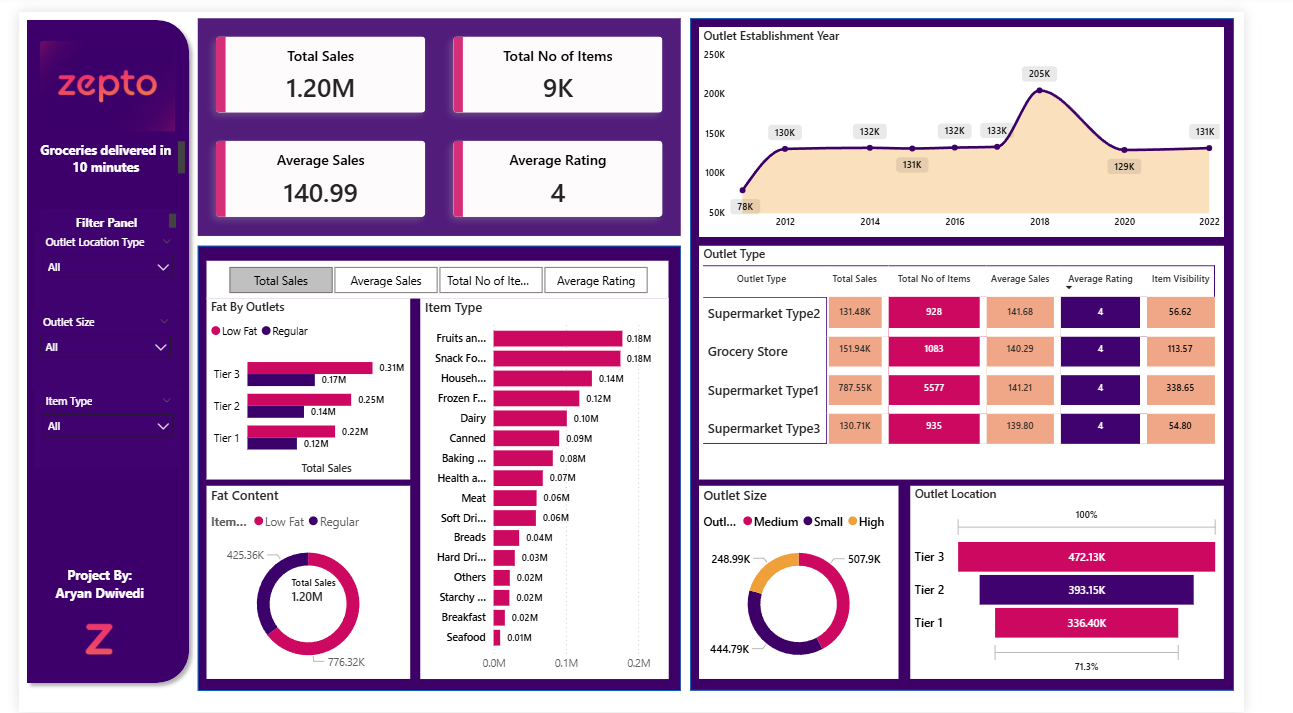

Layout of this report page (visuals, bound fields, positions):
{"tool":"powerbi","page":{"name":"Page 1","canvas":[1400,800],"ordinal":0},"visuals":[{"type":"shape","box":[0,0,203.5,775.8],"z":0},{"type":"textbox","box":[13.5,142.6,181.6,48],"z":1000},{"type":"textbox","box":[1.5,628.9,181.6,54],"z":2000},{"type":"image","box":[13.5,27,181.6,115.6],"z":3000},{"type":"cardVisual","fields":{"Data":["Zepto Grocery Data.Total Sales","Zepto Grocery Data.Total No of Items","Zepto Grocery Data.Average Sales","Zepto Grocery Data.Avg Rating"]},"box":[204.1,7.5,552.3,249.1],"z":4000},{"type":"image","box":[51,682.9,79.5,67.5],"z":5000},{"type":"shape","box":[204.1,267.2,552.3,508.8],"z":6000},{"type":"donutChart","title":"Fat Content","fields":{"Y":["Zepto Grocery Data.Total Sales"],"Category":["Zepto Grocery Data.Item Fat Content"]},"box":[214.6,541.8,232.6,220.6],"z":7000},{"type":"slicer","fields":{"Values":["Metrics.Metrics"]},"box":[214.6,283.7,528.3,43.5],"z":8000},{"type":"cardVisual","fields":{"Data":["Zepto Grocery Data.Total Sales"]},"box":[294.2,628.9,94.6,64.5],"z":9000},{"type":"clusteredBarChart","title":"Fat By Outlets","fields":{"Y":["Zepto Grocery Data.Total Sales"],"Category":["Zepto Grocery Data.Outlet Location Type"],"Series":["Zepto Grocery Data.Item Fat Content"]},"box":[214.6,327.2,232.6,207.1],"z":10000},{"type":"barChart","title":"Item Type","fields":{"Y":["Zepto Grocery Data.Total Sales"],"Category":["Zepto Grocery Data.Item Type"]},"box":[459.3,327.2,283.7,435.3],"z":11000},{"type":"shape","box":[766.9,7.5,621.4,768.4],"z":12000},{"type":"lineChart","title":"Outlet Establishment Year","fields":{"Y":["Zepto Grocery Data.Total Sales"],"Category":["Zepto Grocery Data.Outlet Establishment Year"]},"box":[777.4,16.5,600.3,240.1],"z":13000},{"type":"donutChart","title":"Outlet Size","fields":{"Y":["Zepto Grocery Data.Total Sales"],"Category":["Zepto Grocery Data.Outlet Size"]},"box":[777.4,541.8,228.1,220.6],"z":14000},{"type":"funnel","title":"Outlet Location","fields":{"Y":["Sum(Zepto Grocery Data.Sales)"],"Category":["Zepto Grocery Data.Outlet Location Type"]},"box":[1019.1,541.8,358.7,220.6],"z":15000},{"type":"pivotTable","title":"Outlet Type","fields":{"Rows":["Zepto Grocery Data.Outlet Type"],"Values":["Zepto Grocery Data.Total Sales","Zepto Grocery Data.Total No of Items","Zepto Grocery Data.Average Sales","Zepto Grocery Data.Average Rating","Sum(Zepto Grocery Data.Item Visibility)"]},"box":[777.4,267.2,600.3,267.2],"z":16000},{"type":"slicer","fields":{"Values":["Zepto Grocery Data.Outlet Location Type"]},"box":[17.8,250.5,169.2,90.3],"z":17000},{"type":"slicer","fields":{"Values":["Zepto Grocery Data.Outlet Size"]},"box":[14,340.8,169.2,90.3],"z":18000},{"type":"slicer","fields":{"Values":["Zepto Grocery Data.Item Type"]},"box":[17.8,431.1,169.2,90.3],"z":19000},{"type":"textbox","box":[24.2,225.1,160.2,25.4],"z":20000}]}

Visuals, with their boxes in screenshot pixels (x1, y1, x2, y2):
shape: bbox=(10, 7, 189, 689)
textbox: bbox=(22, 132, 182, 174)
textbox: bbox=(11, 560, 171, 608)
image: bbox=(22, 30, 182, 132)
cardVisual - Zepto Grocery Data.Total Sales x Zepto Grocery Data.Total No of Items: bbox=(190, 13, 676, 233)
image: bbox=(55, 608, 125, 667)
shape: bbox=(190, 242, 676, 690)
"Fat Content" donutChart: bbox=(199, 483, 404, 678)
slicer - Metrics.Metrics: bbox=(199, 256, 664, 295)
cardVisual - Zepto Grocery Data.Total Sales: bbox=(269, 560, 352, 617)
"Fat By Outlets" clusteredBarChart: bbox=(199, 295, 404, 477)
"Item Type" barChart: bbox=(414, 295, 664, 678)
shape: bbox=(685, 13, 1232, 689)
"Outlet Establishment Year" lineChart: bbox=(694, 21, 1222, 233)
"Outlet Size" donutChart: bbox=(694, 483, 895, 678)
"Outlet Location" funnel: bbox=(907, 483, 1223, 678)
"Outlet Type" pivotTable: bbox=(694, 242, 1222, 477)
slicer - Zepto Grocery Data.Outlet Location Type: bbox=(26, 227, 175, 307)
slicer - Zepto Grocery Data.Outlet Size: bbox=(22, 307, 171, 386)
slicer - Zepto Grocery Data.Item Type: bbox=(26, 386, 175, 466)
textbox: bbox=(31, 205, 172, 227)
